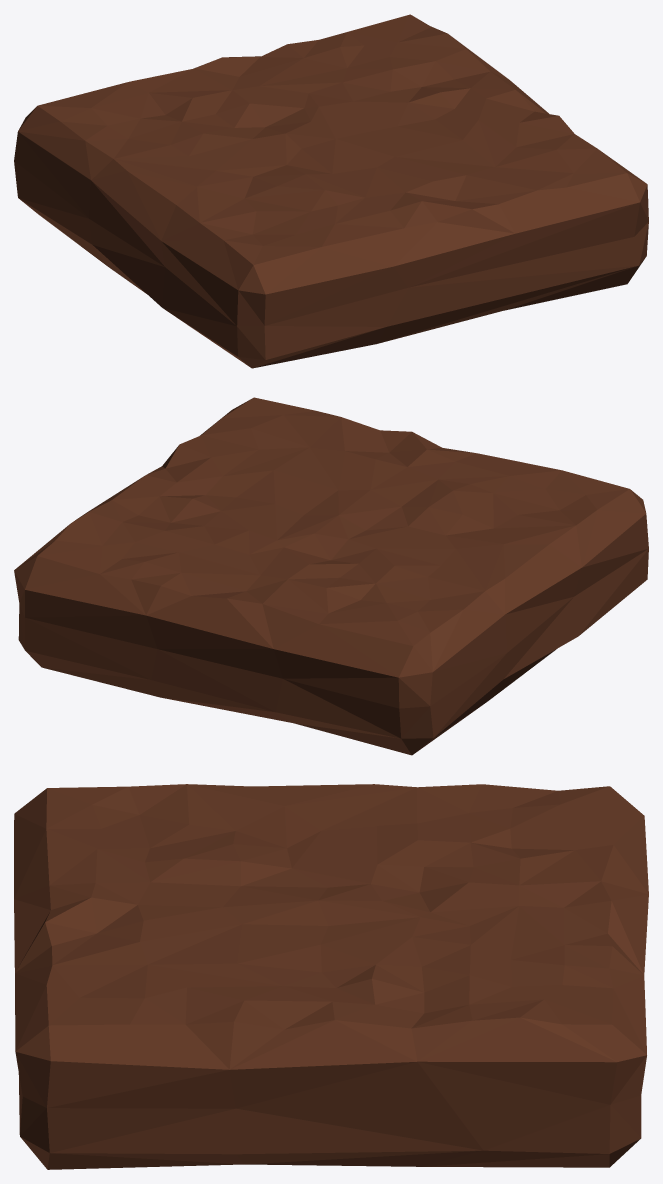
File: dirt_patch.glb
3 renders of one model, top to bottom at view 1: azimuth 30°, elevation 25°; view 2: azimuth 150°, elevation 25°; view 3: azimuth 270°, elevation 25°, orthographic. The views are drawn at different scales.
Parts seen in each view (by area): view 1: Cube; view 2: Cube; view 3: Cube.
Boxes of the visible parts, x1,y1,x2,y2 form: Cube: (14,14,648,368); Cube: (14,397,648,755); Cube: (14,784,648,1169).
Size of the model in its own units: 2.02 by 0.5442 by 2.03.
